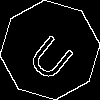U: (25, 25, 83, 84)
